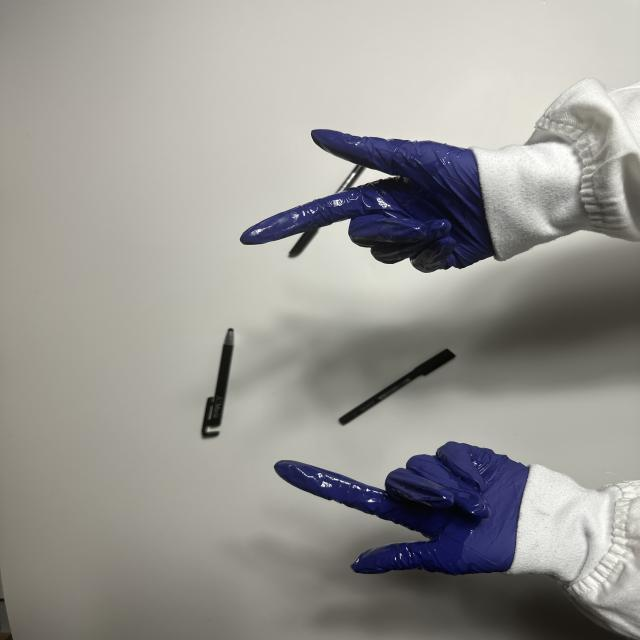gloves_contaminated: (240, 130, 494, 272), (274, 442, 528, 575)
